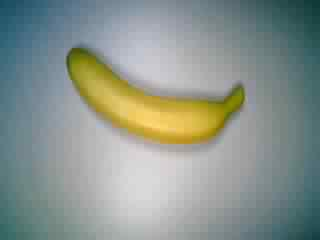banana: (62, 41, 250, 153)
